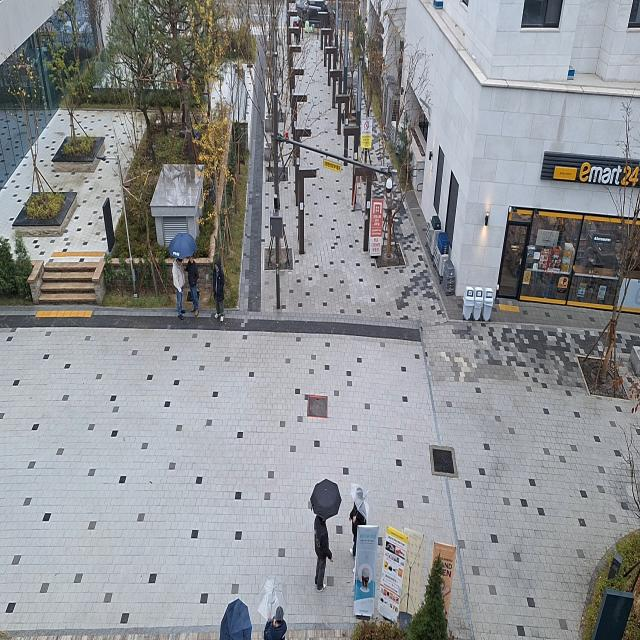Car: (292, 0, 341, 28)
